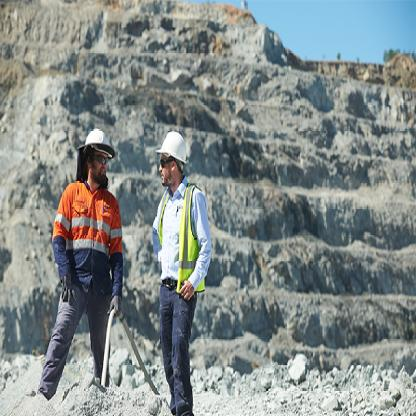person: (29, 112, 144, 392), (144, 121, 212, 402)
